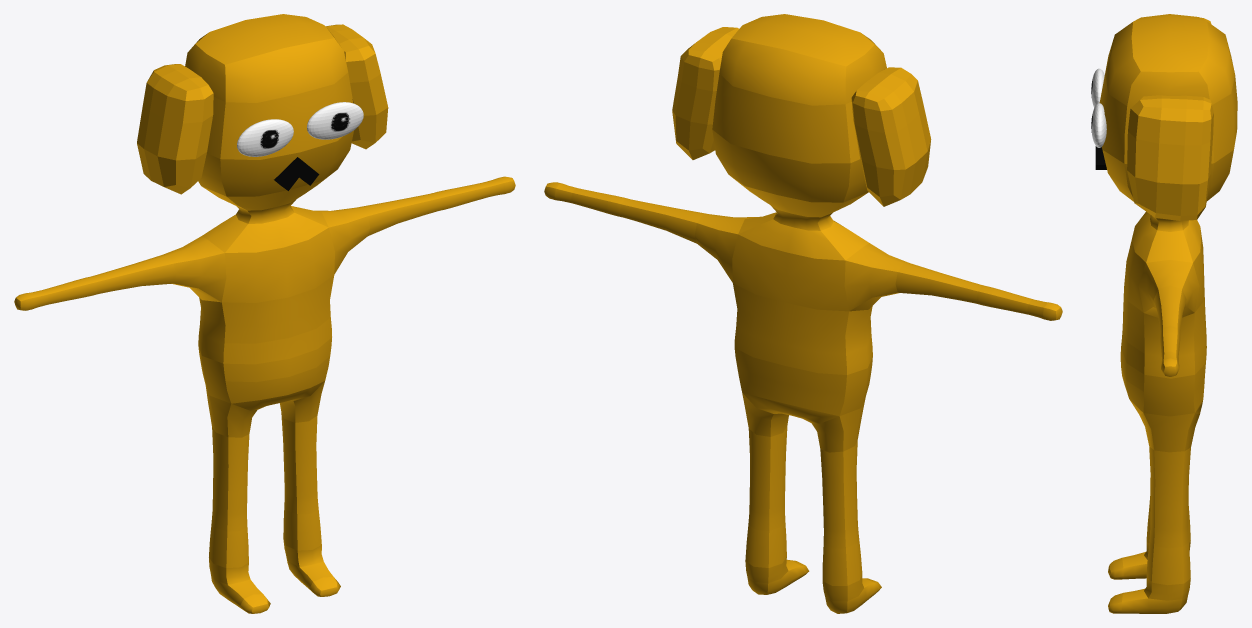
Rendered from perroloco.fbx.
3 views of the same model, side by side, from view 1: azimuth 30°, elevation 25°; view 2: azimuth 150°, elevation 25°; view 3: azimuth 270°, elevation 25° (orthographic). The views are drawn at different scales.
Parts seen in each view (by area): view 1: Cube.002, Sphere, Cube.004; view 2: Cube.002; view 3: Cube.002, Sphere, Cube.004.
Boxes of the visible parts, <box> form: Cube.002: <box>14,14,515,613</box>; Sphere: <box>237,102,363,156</box>; Cube.004: <box>274,157,319,190</box>; Cube.002: <box>544,14,1062,613</box>; Cube.002: <box>1099,14,1237,613</box>; Sphere: <box>1091,68,1106,147</box>; Cube.004: <box>1095,146,1106,169</box>.
Size of the model in its own units: 1723 by 1831 by 433.
